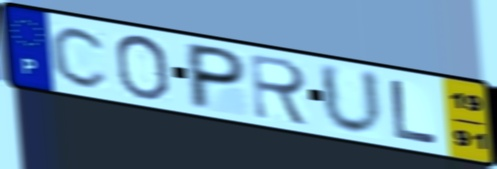C: (48, 24, 111, 90)
L: (387, 77, 442, 147)
O: (112, 34, 172, 102)
P: (186, 40, 249, 112)
R: (248, 51, 314, 129)
U: (316, 60, 388, 139)
